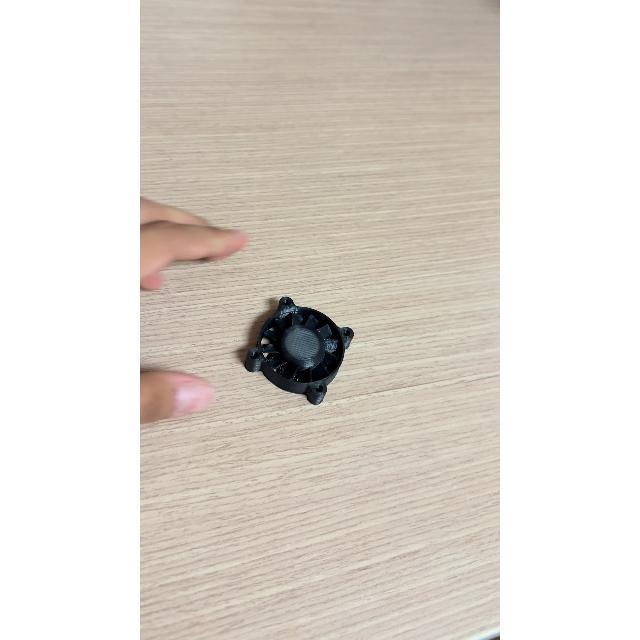Pieza_4: (235, 284, 367, 414)
